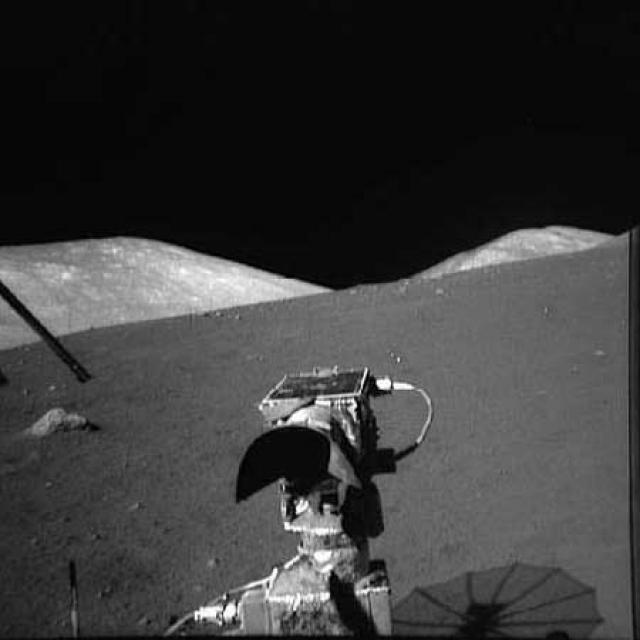artifact: (171, 342, 431, 638), (378, 564, 606, 638), (0, 277, 98, 385), (55, 555, 101, 638)
rock: (11, 402, 106, 461)
